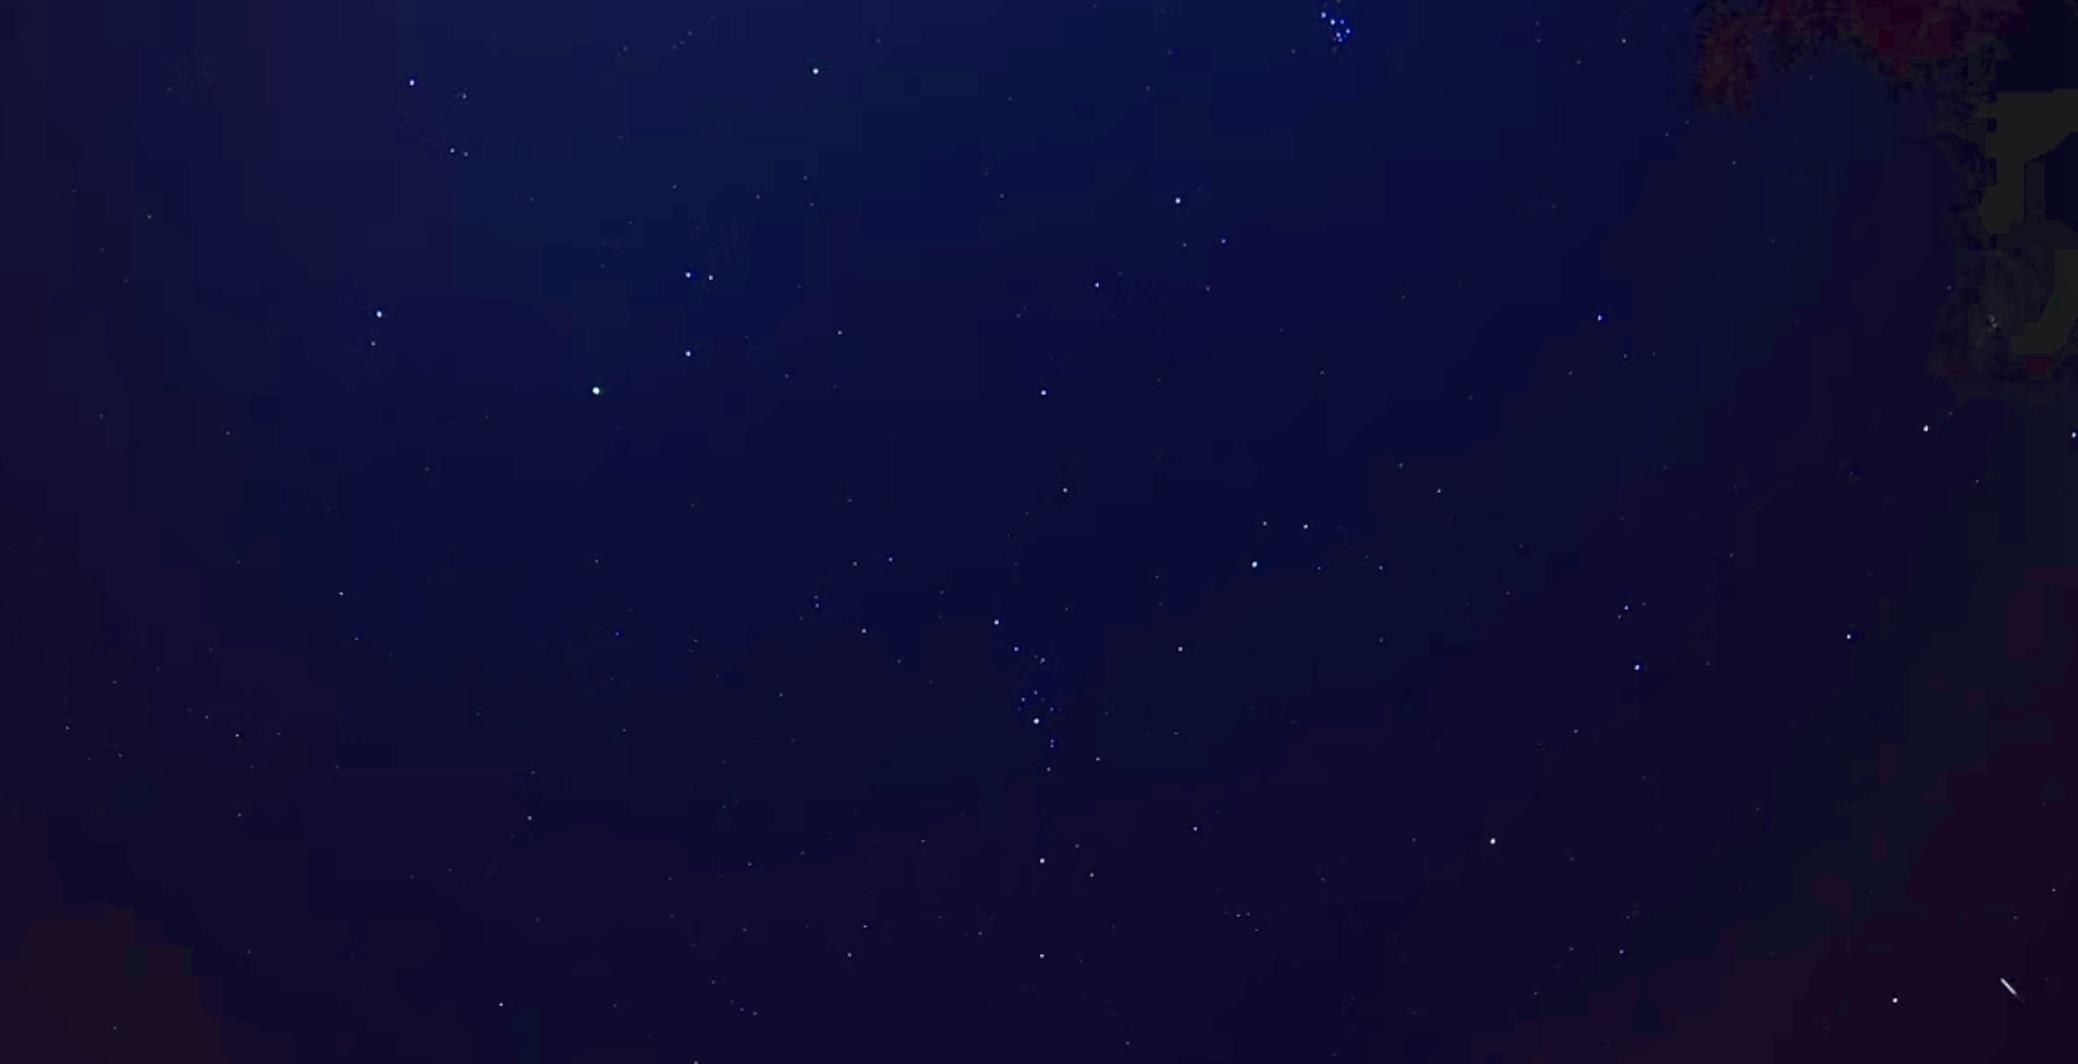meteorite: (1956, 966, 2060, 1010)
